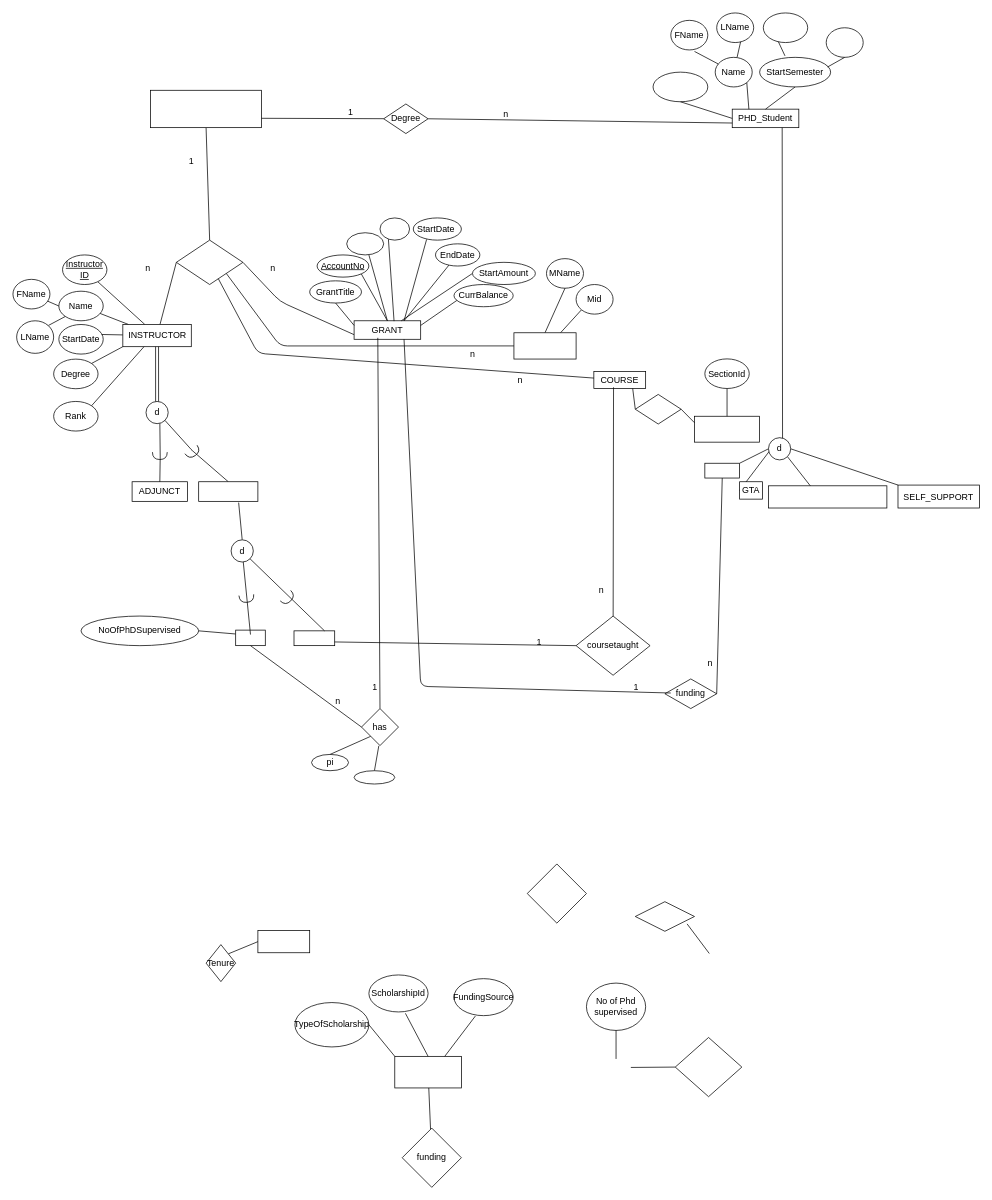
This 992x1200 diagram has some shape labels left out. Each missing label, with the centre of its shape:
"co-pi" goes at (374,777).
"Committe" goes at (708,1067).
"DOCTORAL" goes at (206,109).
"Full Time" goes at (283,941).
"FULL_TIME" goes at (228,491).
"GRA" goes at (722,470).
"MILESTONE" goes at (544,345).
"NTT" goes at (314,638).
"Offered" goes at (658,409).
"SCHOLARSHIP" goes at (427,1072).
"SCHOLARSHIP_SUPPORT" goes at (827,496).
"SECTION" goes at (727,429).
"Semester" goes at (785,27).
"Source" goes at (365,243).
"Store Data" goes at (209,262).
"StudentID" goes at (680,86).
"Track Type" goes at (664,916).
"TT" goes at (250,637).
"Type" goes at (394,228).
"Types" goes at (556,893).
"Year" goes at (844,42).
